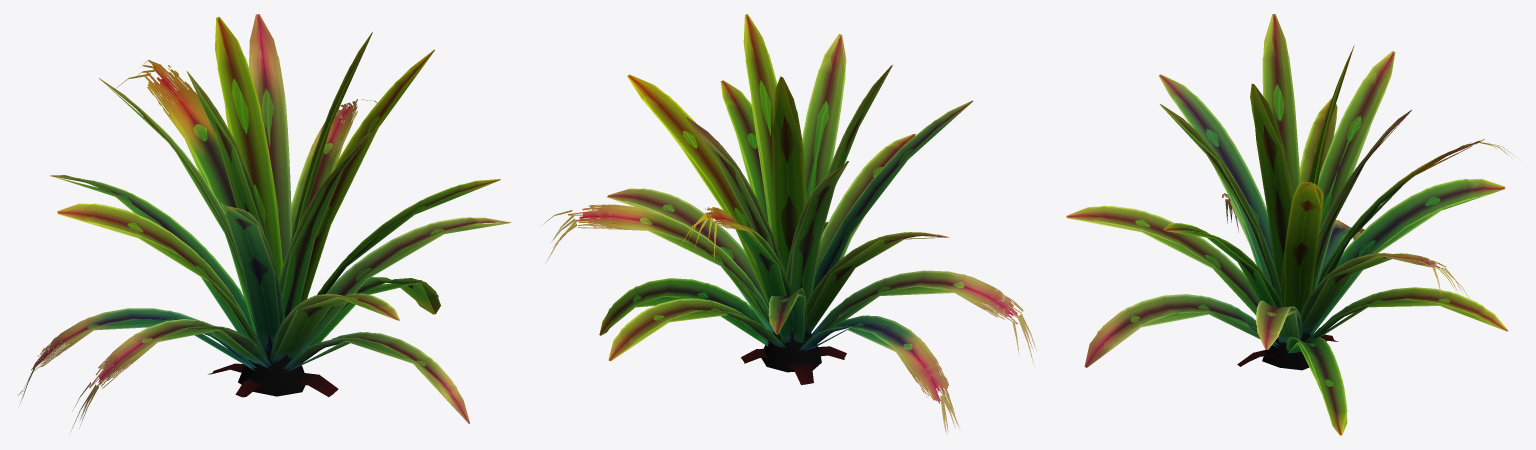
Rendered from IO_FiberPlant_A.glb.
3 renders of one model, left to right at view 1: azimuth 30°, elevation 25°; view 2: azimuth 150°, elevation 25°; view 3: azimuth 270°, elevation 25°, orthographic. The views are drawn at different scales.
Visible parts, largest first — view 1: IO_FiberPlant_A_LOD1_Leaf_20, IO_FiberPlant_A_LOD1_Leaf_17, IO_FiberPlant_A_LOD2_Leaf_13, IO_FiberPlant_A_LOD0, IO_FiberPlant_A_LOD0_Leaf_12, IO_FiberPlant_A_LOD1_Leaf_12, IO_FiberPlant_A_LOD0_Leaf_10, IO_FiberPlant_A_LOD1_Leaf_10, IO_FiberPlant_A_LOD0_Leaf_05, IO_FiberPlant_A_LOD2_Leaf_16, IO_FiberPlant_A_LOD2_Leaf_08, IO_FiberPlant_A_LOD2_Leaf_18 (+42 smaller); view 2: IO_FiberPlant_A_LOD2_Leaf_20, IO_FiberPlant_A_LOD1_Leaf_16, IO_FiberPlant_A_LOD1_Leaf_19, IO_FiberPlant_A_LOD0_Leaf_02, IO_FiberPlant_A_LOD0_Leaf_05, IO_FiberPlant_A_LOD0_Leaf_09, IO_FiberPlant_A_LOD2_Leaf_15, IO_FiberPlant_A_LOD0, IO_FiberPlant_A_LOD1_Leaf_14, IO_FiberPlant_A_LOD1_Leaf_09, IO_FiberPlant_A_LOD0_Leaf_01, IO_FiberPlant_A_LOD0_Leaf_04 (+41 smaller); view 3: IO_FiberPlant_A_LOD2_Leaf_14, IO_FiberPlant_A_LOD1_Leaf_15, IO_FiberPlant_A_LOD2_Leaf_19, IO_FiberPlant_A_LOD1_Leaf_13, IO_FiberPlant_A_LOD0_Leaf_03, IO_FiberPlant_A_LOD1_Leaf_18, IO_FiberPlant_A_LOD1_Leaf_07, IO_FiberPlant_A_LOD1_Leaf_08, IO_FiberPlant_A_LOD0_Leaf_07, IO_FiberPlant_A_LOD0_Leaf_08, IO_FiberPlant_A_LOD0_Leaf_04, IO_FiberPlant_A_LOD0_Leaf_13 (+35 smaller).
Boxes of the visible parts, x1=… form: IO_FiberPlant_A_LOD1_Leaf_20: x1=216, y1=17, x2=282, y2=279; IO_FiberPlant_A_LOD1_Leaf_17: x1=249, y1=14, x2=291, y2=264; IO_FiberPlant_A_LOD2_Leaf_13: x1=225, y1=205, x2=280, y2=350; IO_FiberPlant_A_LOD0: x1=208, y1=351, x2=338, y2=397; IO_FiberPlant_A_LOD0_Leaf_12: x1=115, y1=60, x2=256, y2=335; IO_FiberPlant_A_LOD1_Leaf_12: x1=144, y1=63, x2=242, y2=286; IO_FiberPlant_A_LOD0_Leaf_10: x1=57, y1=203, x2=267, y2=356; IO_FiberPlant_A_LOD1_Leaf_10: x1=57, y1=203, x2=266, y2=354; IO_FiberPlant_A_LOD0_Leaf_05: x1=71, y1=319, x2=271, y2=429; IO_FiberPlant_A_LOD2_Leaf_16: x1=282, y1=132, x2=373, y2=312; IO_FiberPlant_A_LOD2_Leaf_08: x1=271, y1=297, x2=399, y2=363; IO_FiberPlant_A_LOD2_Leaf_18: x1=186, y1=71, x2=264, y2=233; IO_FiberPlant_A_LOD2_Leaf_20: x1=772, y1=76, x2=805, y2=272; IO_FiberPlant_A_LOD1_Leaf_16: x1=803, y1=34, x2=845, y2=267; IO_FiberPlant_A_LOD1_Leaf_19: x1=745, y1=14, x2=775, y2=240; IO_FiberPlant_A_LOD0_Leaf_02: x1=799, y1=315, x2=960, y2=435; IO_FiberPlant_A_LOD0_Leaf_05: x1=811, y1=270, x2=1036, y2=367; IO_FiberPlant_A_LOD0_Leaf_09: x1=541, y1=204, x2=779, y2=335; IO_FiberPlant_A_LOD2_Leaf_15: x1=790, y1=162, x2=848, y2=302; IO_FiberPlant_A_LOD0: x1=741, y1=331, x2=846, y2=384; IO_FiberPlant_A_LOD1_Leaf_14: x1=627, y1=74, x2=756, y2=265; IO_FiberPlant_A_LOD1_Leaf_09: x1=568, y1=204, x2=769, y2=322; IO_FiberPlant_A_LOD0_Leaf_01: x1=599, y1=278, x2=767, y2=340; IO_FiberPlant_A_LOD0_Leaf_04: x1=608, y1=298, x2=785, y2=360; IO_FiberPlant_A_LOD2_Leaf_14: x1=1284, y1=182, x2=1322, y2=312; IO_FiberPlant_A_LOD1_Leaf_15: x1=1319, y1=51, x2=1395, y2=270; IO_FiberPlant_A_LOD2_Leaf_19: x1=1251, y1=84, x2=1291, y2=287; IO_FiberPlant_A_LOD1_Leaf_13: x1=1159, y1=74, x2=1273, y2=282; IO_FiberPlant_A_LOD0_Leaf_03: x1=1084, y1=294, x2=1278, y2=367; IO_FiberPlant_A_LOD1_Leaf_18: x1=1262, y1=14, x2=1298, y2=196; IO_FiberPlant_A_LOD1_Leaf_07: x1=1309, y1=178, x2=1505, y2=333; IO_FiberPlant_A_LOD1_Leaf_08: x1=1066, y1=205, x2=1259, y2=307; IO_FiberPlant_A_LOD0_Leaf_07: x1=1311, y1=178, x2=1504, y2=331; IO_FiberPlant_A_LOD0_Leaf_08: x1=1067, y1=206, x2=1258, y2=308; IO_FiberPlant_A_LOD0_Leaf_04: x1=1305, y1=287, x2=1507, y2=341; IO_FiberPlant_A_LOD0_Leaf_13: x1=1159, y1=74, x2=1268, y2=264.
Size of what is drawn, in the model's own units: 1.09 by 0.7916 by 1.07.
Materials: 1 (1 with a texture image).
